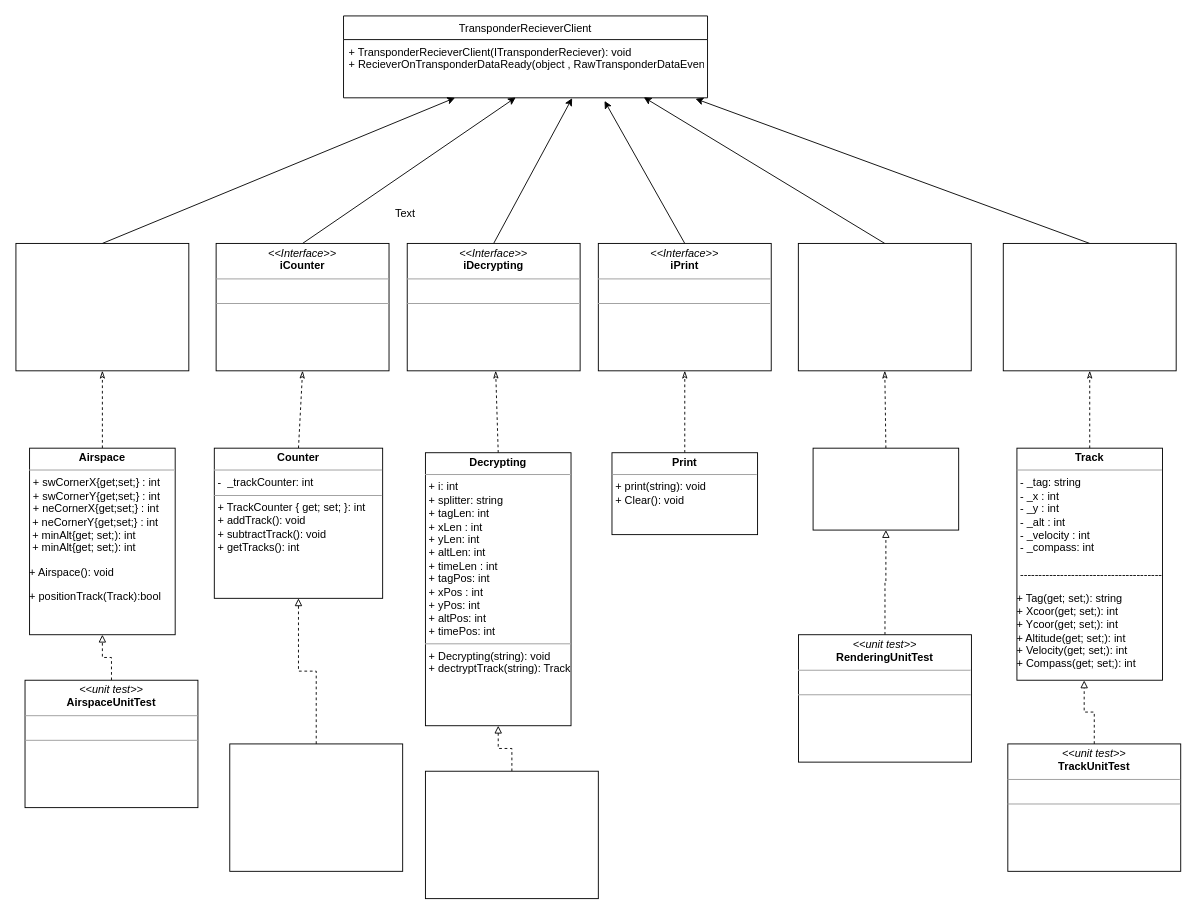
The diagram is 1197 pixels wide and 915 high, and some of its shapes have lost their labels. The box of each missing label's shape, as (x1, y1, x2, y2) in pixels:
<<Interface>> IAirspace: (15, 243, 189, 371)
<<Interface>> iRendering: (797, 243, 971, 371)
<<Interface>> iTrack: (1002, 243, 1176, 371)
<<unit test>> CounterUnitTest: (229, 743, 403, 871)
<<unit test>> DecryptingUnitTest: (425, 770, 598, 899)
Rendering + Rendering(Print): void + TracksRender(Track): void: (812, 447, 959, 530)
